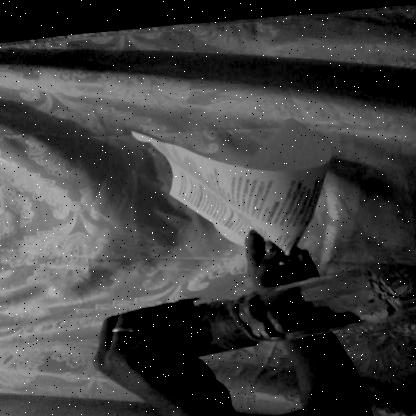Plastic Bottle: (59, 261, 416, 395)
